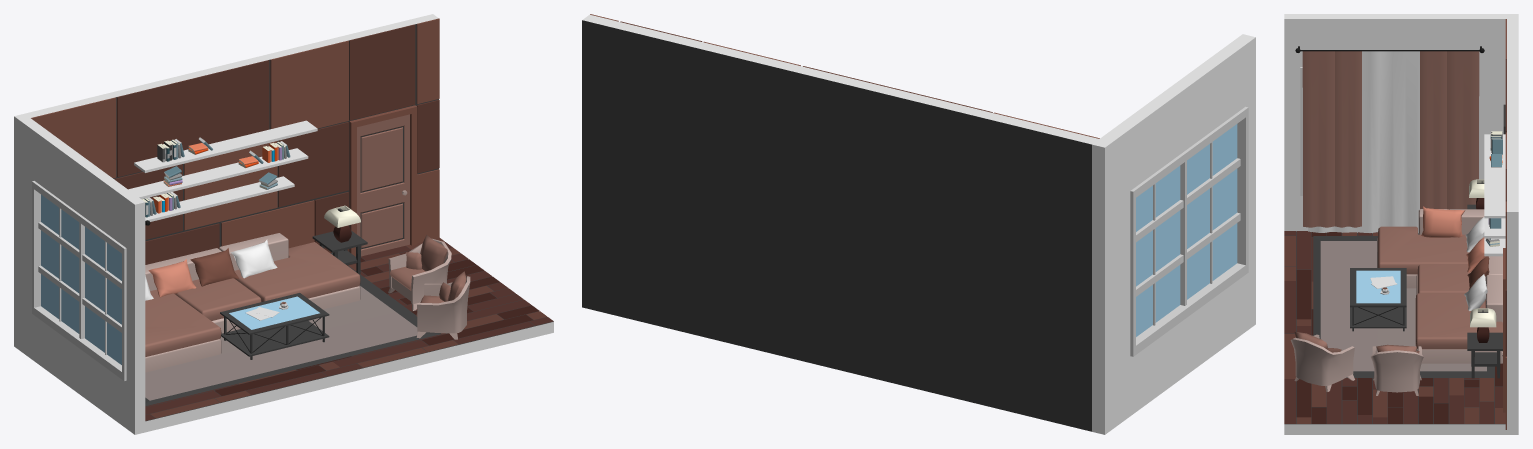
Rendered from room_10.glb.
The picture shows the model from 3 angles, left to right: view 1: azimuth 30°, elevation 25°; view 2: azimuth 150°, elevation 25°; view 3: azimuth 270°, elevation 25°; orthographic projection. The views are drawn at different scales.
Visible parts, largest first — view 1: sofa_028.003, window_018.006, carpet_001.005, Walls_060.003, floor_016.013, door_009.004, Walls_011.013, Walls_019.021, Walls_006.131, Walls_060.006, Walls_006.129, Walls_006.128 (+25 smaller); view 2: Walls_011.014, window_018.006, Walls_006.129, Walls_006.131, Walls_006.130, Walls_006.128; view 3: Curtains_027.004, Curtains_031.001, sofa_028.003, floor_016.013, Curtains_031.002, carpet_001.005, Walls_006.131, Walls_011.014, Walls_006.128, Walls_011.013, Walls_006.129, coffee_table_006.003 (+18 smaller).
Part boxes in pixels (box(x1,y1,x2,y2)): sofa_028.003: box(145, 233, 360, 372); window_018.006: box(32, 181, 126, 381); carpet_001.005: box(145, 265, 440, 406); Walls_060.003: box(117, 60, 269, 177); floor_016.013: box(332, 237, 553, 371); door_009.004: box(357, 114, 409, 256); Walls_011.013: box(145, 246, 553, 432); Walls_019.021: box(270, 40, 348, 129); Walls_006.131: box(35, 129, 135, 247); Walls_060.006: box(349, 24, 415, 120); Walls_006.129: box(14, 113, 45, 361); Walls_006.128: box(126, 195, 145, 434); Walls_011.014: box(582, 14, 1098, 431); window_018.006: box(1130, 106, 1248, 356); Walls_006.129: box(1092, 125, 1131, 434); Walls_006.131: box(1118, 42, 1244, 189); Walls_006.130: box(1131, 275, 1244, 415); Walls_006.128: box(1232, 34, 1255, 332); Curtains_027.004: box(1308, 51, 1419, 233); Curtains_031.001: box(1302, 51, 1361, 227); sofa_028.003: box(1377, 209, 1502, 363); floor_016.013: box(1284, 326, 1505, 423); Curtains_031.002: box(1420, 51, 1479, 209); carpet_001.005: box(1313, 236, 1494, 377); Walls_006.131: box(1302, 14, 1477, 66); Walls_011.014: box(1507, 19, 1518, 434); Walls_006.128: box(1284, 14, 1301, 231); Walls_011.013: box(1284, 231, 1506, 434); Walls_006.129: box(1477, 14, 1518, 179); coffee_table_006.003: box(1350, 268, 1406, 331).
Size of the model in its own units: 8.05 by 4.2 by 4.
Materials: 1 (1 with a texture image).
